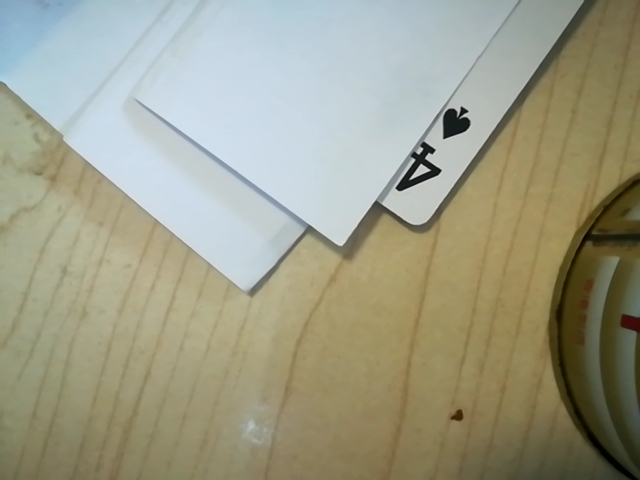ht 4: (370, 90, 488, 219)
